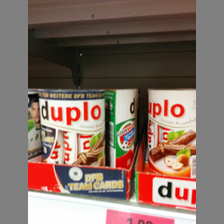chocolate: (37, 88, 106, 166), (146, 89, 196, 179)
